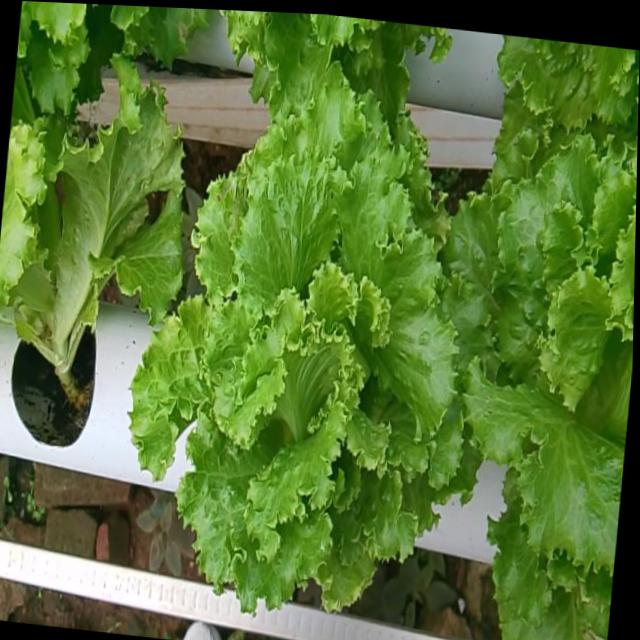Mature: (125, 95, 458, 627), (439, 144, 636, 592)
